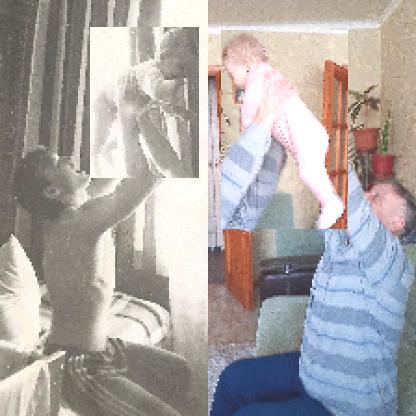child: (222, 31, 350, 231), (91, 28, 201, 180)
